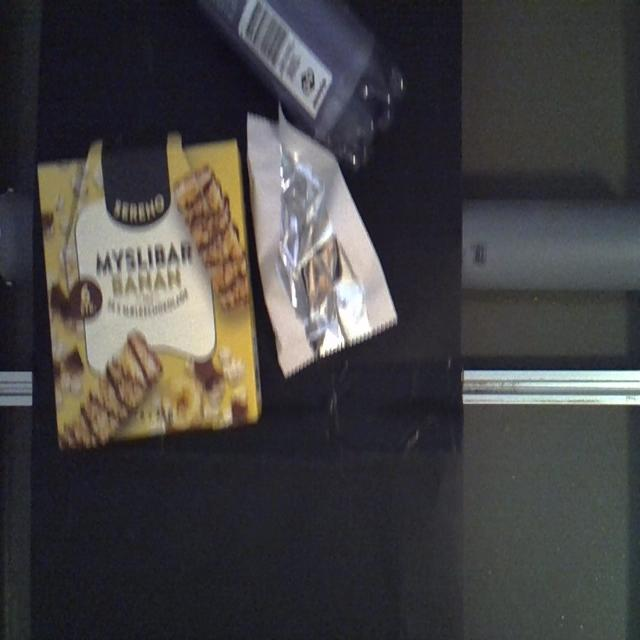bottle-plastic: (196, 0, 408, 171)
carton: (36, 129, 266, 454)
packaging-soft-plastic: (245, 103, 399, 378)
